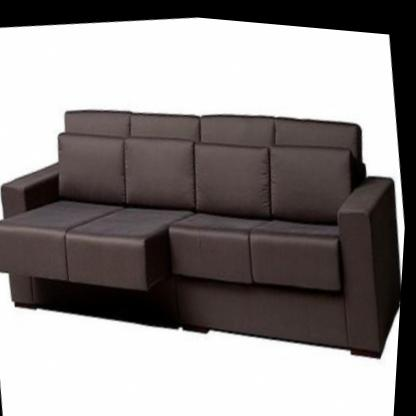Sofa: (0, 58, 413, 402)
